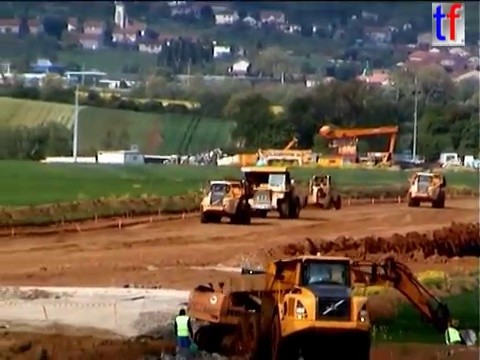crane: (317, 122, 400, 169)
excavator: (186, 251, 477, 359)
motor grader: (300, 173, 342, 212)
truck: (221, 254, 381, 359), (235, 164, 301, 220), (198, 177, 253, 227), (406, 168, 447, 209)
worker: (171, 306, 196, 360), (441, 319, 468, 360)
